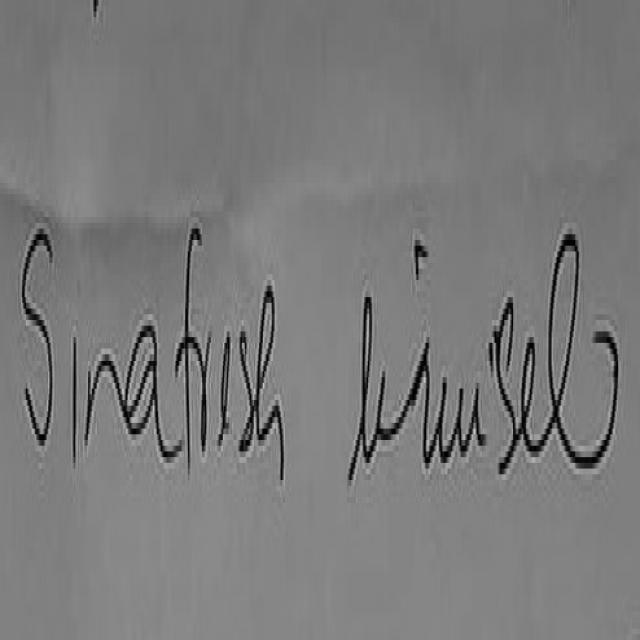S: (21, 229, 52, 443)
a: (123, 320, 183, 460)
e: (522, 337, 542, 451), (218, 331, 235, 450)
f: (175, 223, 202, 471)
g: (495, 297, 521, 471)
h: (255, 280, 284, 477)
i: (371, 366, 392, 460), (468, 383, 481, 449), (71, 331, 76, 460)
l: (536, 229, 619, 466), (349, 291, 378, 500)
n: (84, 354, 127, 446)
q: (411, 335, 437, 479)
r: (194, 340, 211, 451)
s: (240, 326, 255, 449)
u: (440, 377, 472, 472)
